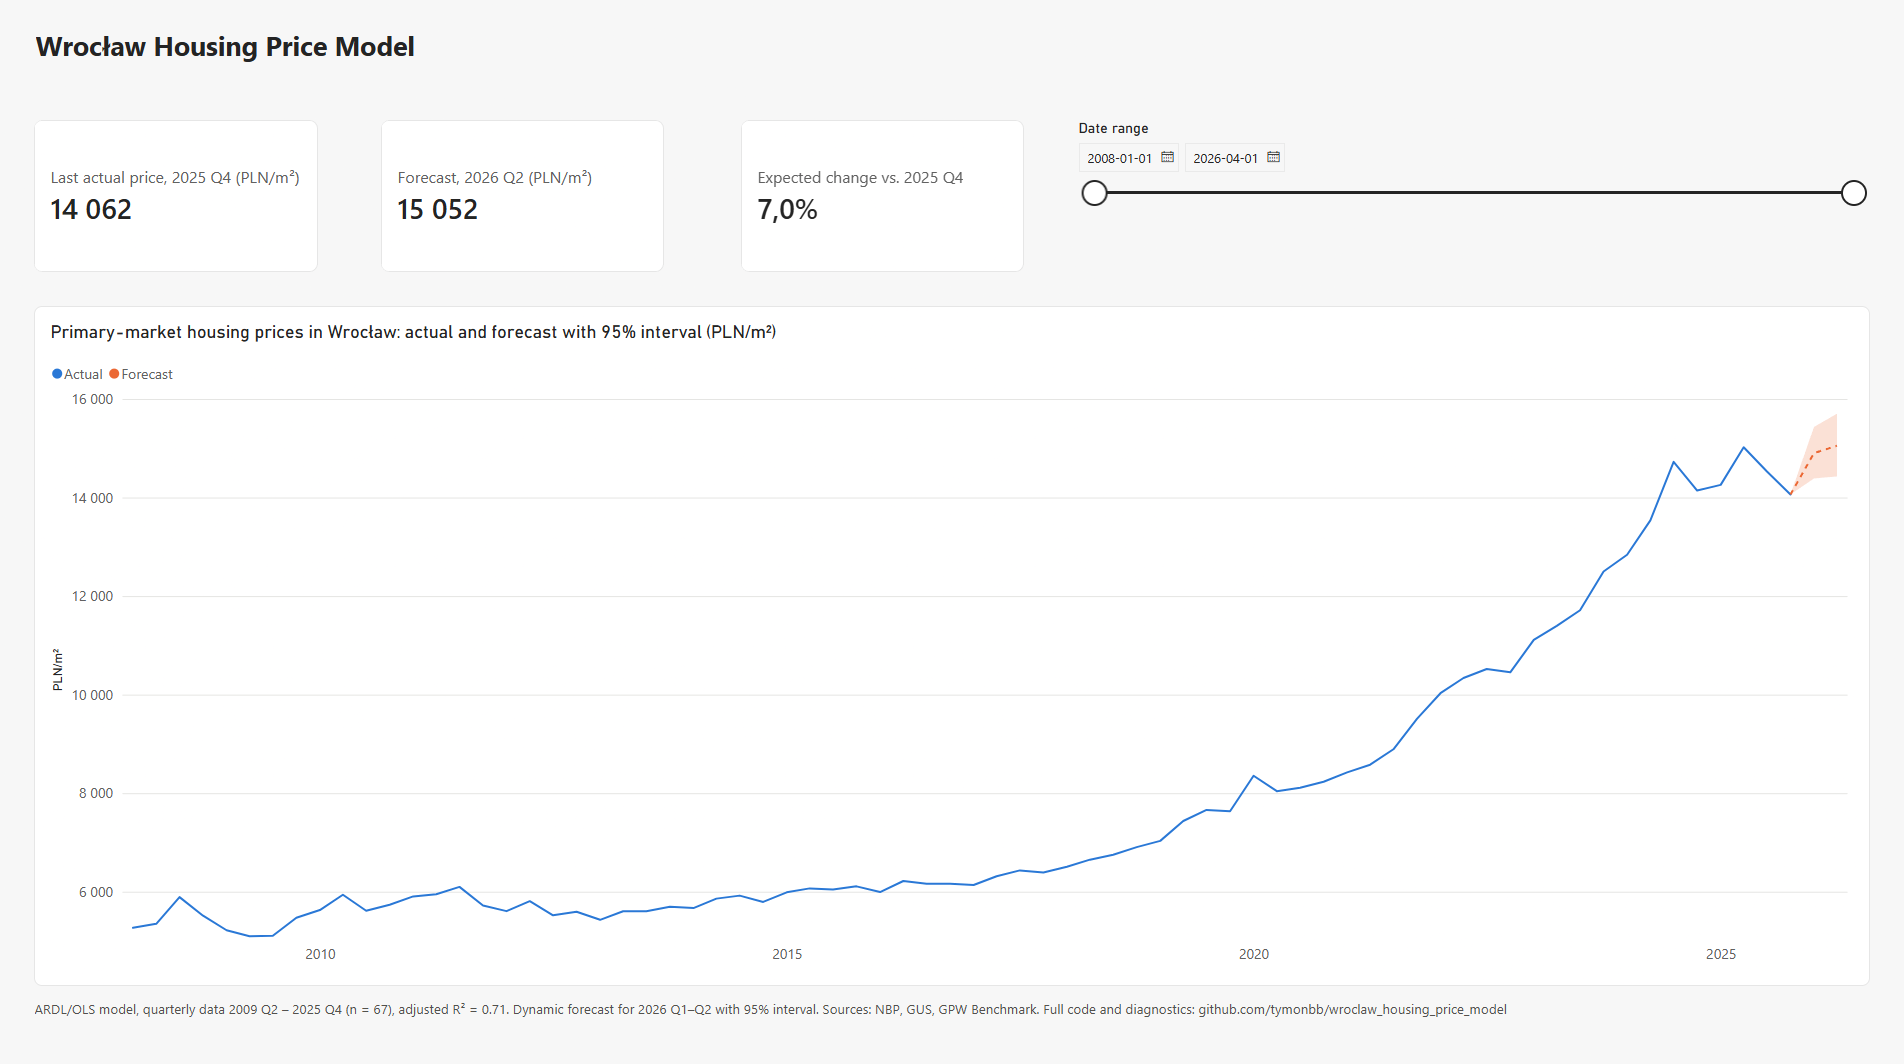

This screenshot's page, from the dashboard's own definition file:
{"tool":"powerbi","page":{"name":"Price forecast","canvas":[1920,1080],"ordinal":0},"visuals":[{"type":"cardVisual","fields":{"Data":["dashboard_prices.Last actual price"]},"box":[42.4,127.3,283.1,151.3],"z":0},{"type":"lineChart","title":"Primary-market housing prices in Wrocław: actual and forecast with 95% interval (PLN/m²)","fields":{"Category":["dashboard_prices.date"],"Y":["Sum(dashboard_prices.price_actual)","Sum(dashboard_prices.price_forecast)"]},"box":[42.4,312.9,1835.1,680.1],"z":1000},{"type":"cardVisual","fields":{"Data":["dashboard_prices.Forecast 2026 Q2"]},"box":[388.9,127.3,283.1,151.3],"z":2000},{"type":"slicer","fields":{"Values":["dashboard_prices.date"]},"box":[1079,127.3,798.6,151],"z":3000},{"type":"cardVisual","fields":{"Data":["dashboard_prices.Expected change"]},"box":[749.2,127.3,283.1,151.3],"z":4000},{"type":"textbox","box":[43.5,33.7,411.6,84.9],"z":5000},{"type":"textbox","box":[43.4,1005.9,1834.1,52.3],"z":6000}]}

Visuals, with their boxes in screenshot pixels (x1, y1, x2, y2), scaled from the page's 1920x1080 canvas onto the 1904x1064 screenshot:
cardVisual - dashboard_prices.Last actual price: bbox=[42, 125, 323, 274]
"Primary-market housing prices in Wrocław: actual and forecast with 95% interval (PLN/m²)" lineChart: bbox=[42, 308, 1862, 978]
cardVisual - dashboard_prices.Forecast 2026 Q2: bbox=[386, 125, 666, 274]
slicer - dashboard_prices.date: bbox=[1070, 125, 1862, 274]
cardVisual - dashboard_prices.Expected change: bbox=[743, 125, 1024, 274]
textbox: bbox=[43, 33, 451, 117]
textbox: bbox=[43, 991, 1862, 1043]
